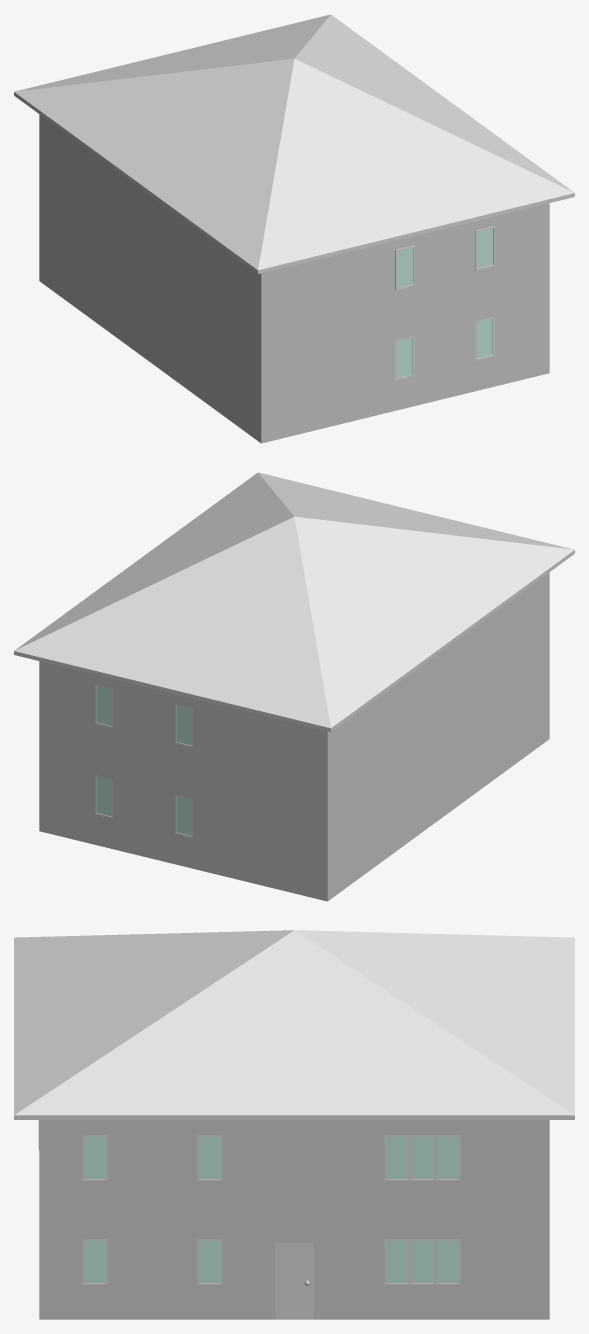
The model's file is Residential_1.fbx.
3 views of the same model, one above another, from view 1: azimuth 30°, elevation 25°; view 2: azimuth 150°, elevation 25°; view 3: azimuth 270°, elevation 25° (orthographic). The views are drawn at different scales.
Visible parts, largest first — view 1: 1st; view 2: 1st; view 3: 1st.
Part boxes in pixels (left/top/right/bottom): 1st: left=14, top=14, right=574, bottom=443; 1st: left=14, top=472, right=574, bottom=901; 1st: left=14, top=930, right=574, bottom=1319.
Size of the model in its own units: 990 by 802 by 1320.
